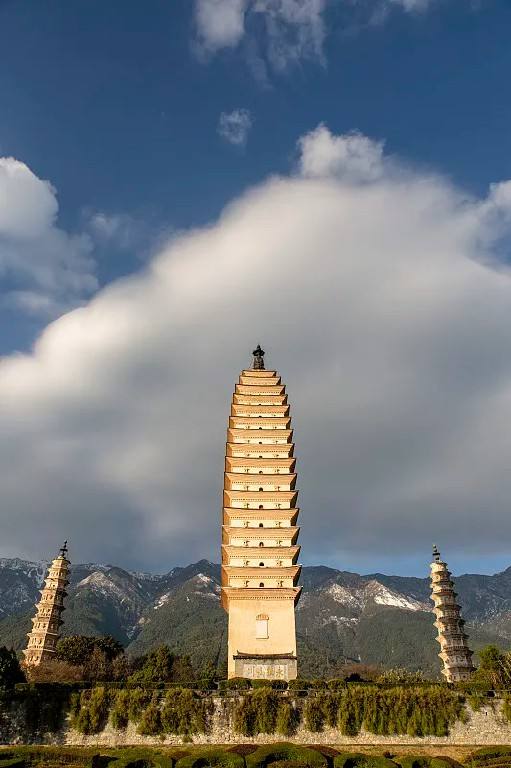ThreePagoda: (218, 345, 303, 684)
